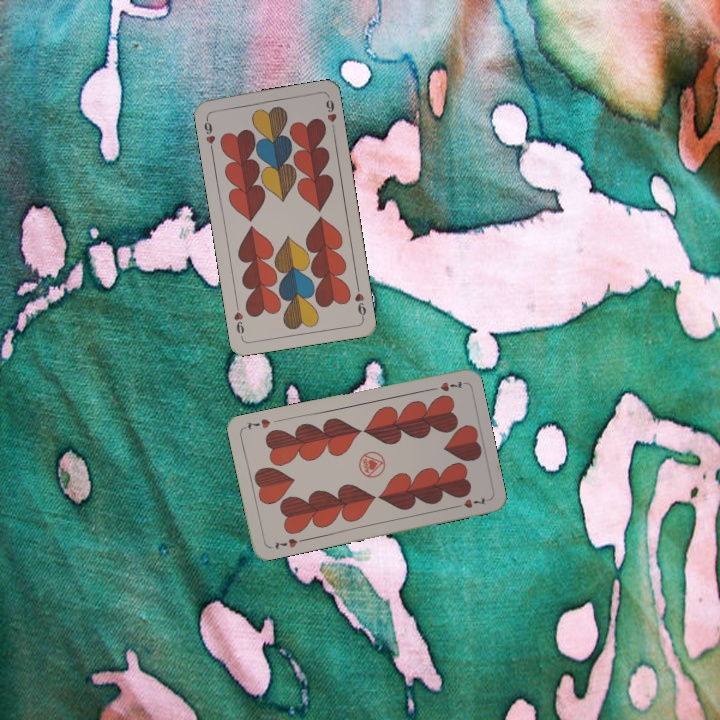H7: (426, 377, 466, 394), (270, 534, 300, 552)
H9: (351, 280, 369, 321), (200, 113, 218, 154)
